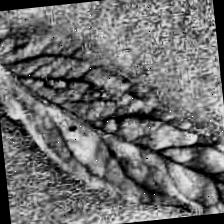leaf mold: (0, 18, 224, 224)
